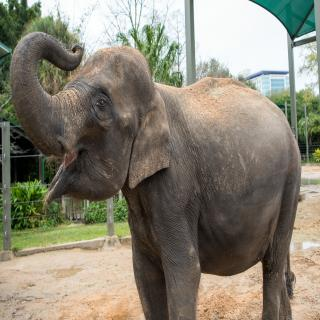Elephant: (8, 29, 304, 320)
